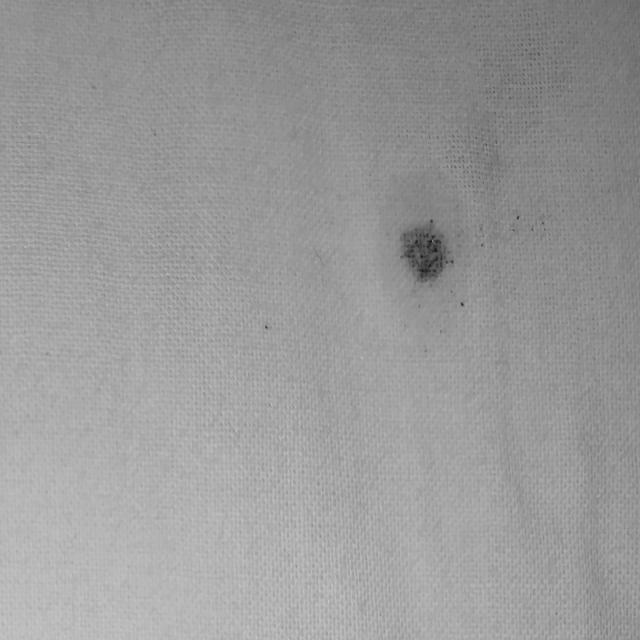Hole: (364, 196, 478, 316), (228, 282, 312, 382)
